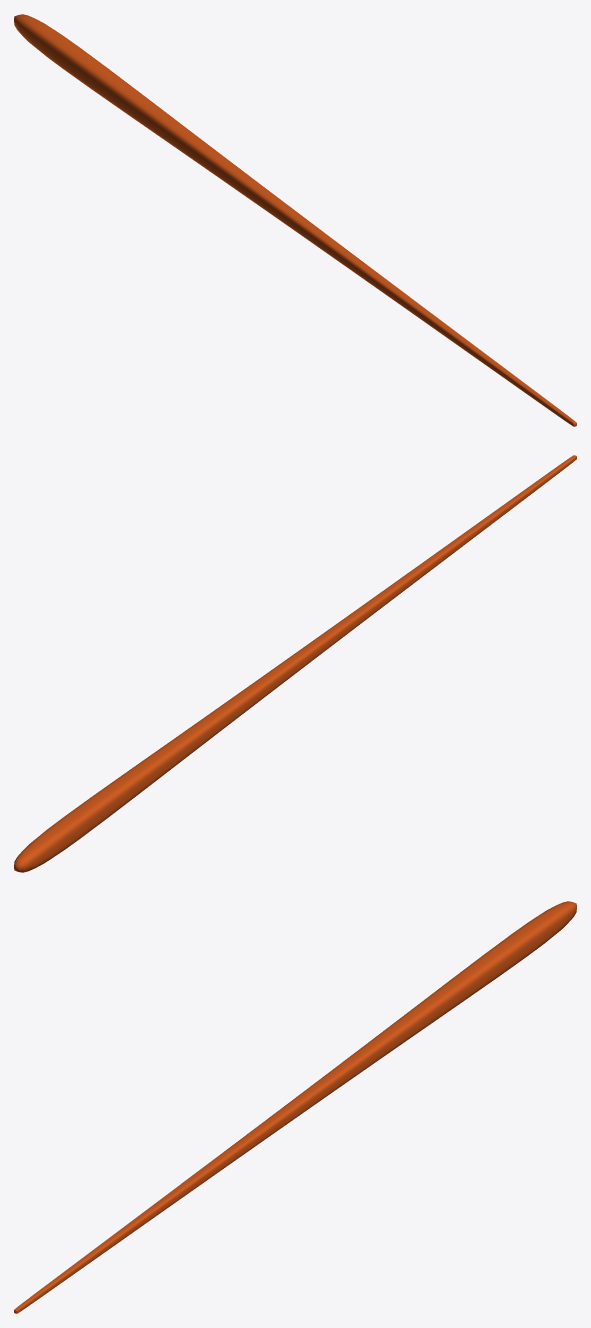
File: Poolstick.fbx
3 views of the same model, one above another, from view 1: azimuth 30°, elevation 25°; view 2: azimuth 150°, elevation 25°; view 3: azimuth 330°, elevation 25° (orthographic).
Parts seen in each view (by area): view 1: Cube; view 2: Cube; view 3: Cube.
Part boxes in pixels (x1,y1,x2,y2): Cube: (14, 14, 576, 426); Cube: (14, 455, 576, 872); Cube: (14, 901, 576, 1313).
Size of the model in its own units: 3.07 by 3.07 by 149.
